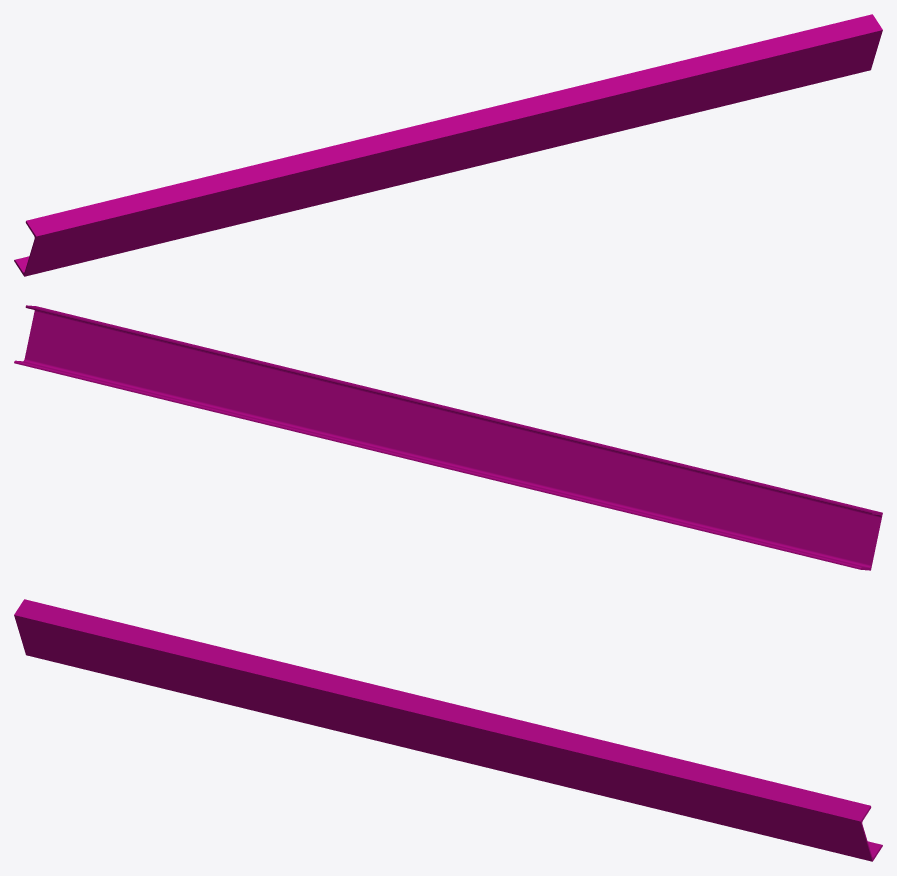
3 renders of one model, top to bottom at view 1: azimuth 30°, elevation 25°; view 2: azimuth 150°, elevation 25°; view 3: azimuth 330°, elevation 25°, orthographic.
Visible parts, largest first — view 1: 0x4BOgOX9AZRmgJNoG9ApF_h1258387; view 2: 0x4BOgOX9AZRmgJNoG9ApF_h1258387; view 3: 0x4BOgOX9AZRmgJNoG9ApF_h1258387.
Part boxes in pixels (bbox=[...]): 0x4BOgOX9AZRmgJNoG9ApF_h1258387: bbox=[14, 14, 882, 276]; 0x4BOgOX9AZRmgJNoG9ApF_h1258387: bbox=[14, 305, 882, 570]; 0x4BOgOX9AZRmgJNoG9ApF_h1258387: bbox=[14, 599, 882, 861].
Bounding box in the file's own units: 3.3 × 0.2136 × 0.1508.
